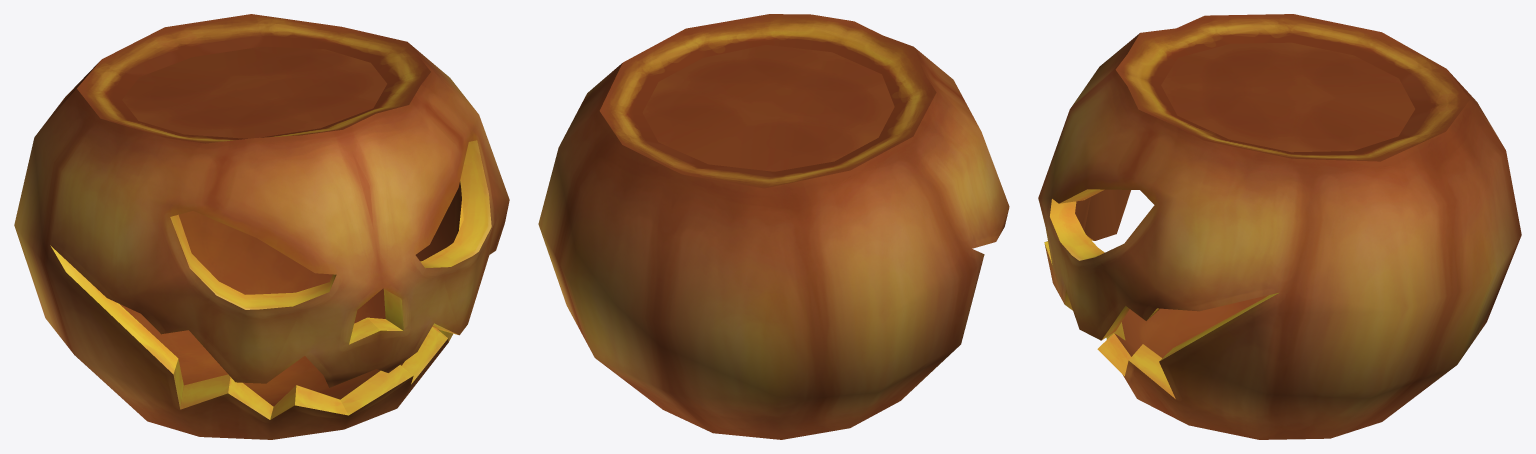
The model's file is nangua03_di.fbx.
The picture shows the model from 3 angles, left to right: view 1: azimuth 30°, elevation 25°; view 2: azimuth 150°, elevation 25°; view 3: azimuth 270°, elevation 25°; orthographic projection. The views are drawn at different scales.
Parts seen in each view (by area): view 1: pumpkin_zug_03; view 2: pumpkin_zug_03; view 3: pumpkin_zug_03.
Boxes of the visible parts, <box> form: pumpkin_zug_03: <box>14,14,509,439</box>; pumpkin_zug_03: <box>538,14,1009,439</box>; pumpkin_zug_03: <box>1038,14,1521,439</box>.
Size of the model in its own units: 2.93 by 2.18 by 2.9.
